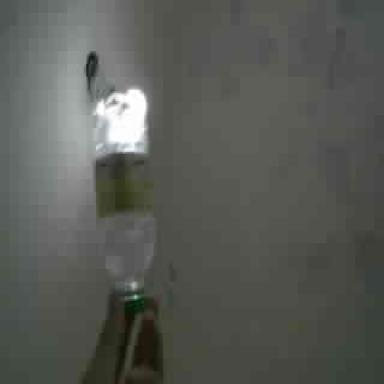bottle: (90, 96, 162, 309), (95, 88, 156, 310)
